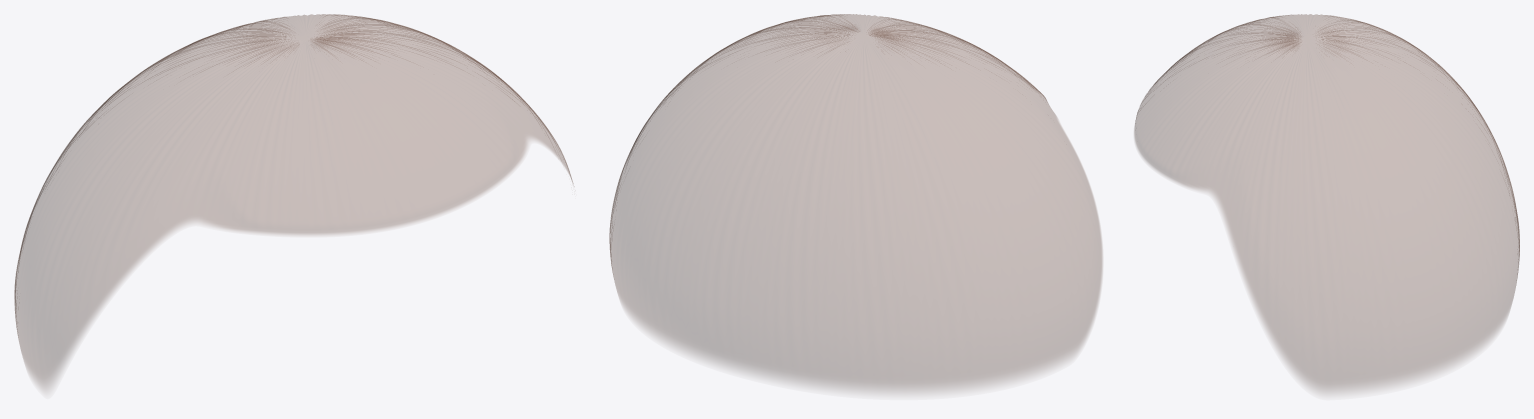
Rendered from Highlights-8fd567fb4035252-hair.glb.
3 views of the same model, side by side, from view 1: azimuth 30°, elevation 25°; view 2: azimuth 150°, elevation 25°; view 3: azimuth 270°, elevation 25° (orthographic). The views are drawn at different scales.
Visible parts, largest first — view 1: 226 hair / Hair252 / buzz edge.001; view 2: 226 hair / Hair252 / buzz edge.001; view 3: 226 hair / Hair252 / buzz edge.001.
Part boxes in pixels (x1,y1,x2,y2): 226 hair / Hair252 / buzz edge.001: (14, 14, 573, 389); 226 hair / Hair252 / buzz edge.001: (609, 14, 1102, 392); 226 hair / Hair252 / buzz edge.001: (1134, 14, 1519, 392).
Bounding box in the file's own units: 0.9886 × 0.5747 × 0.761.
1 material, 1 textured.
